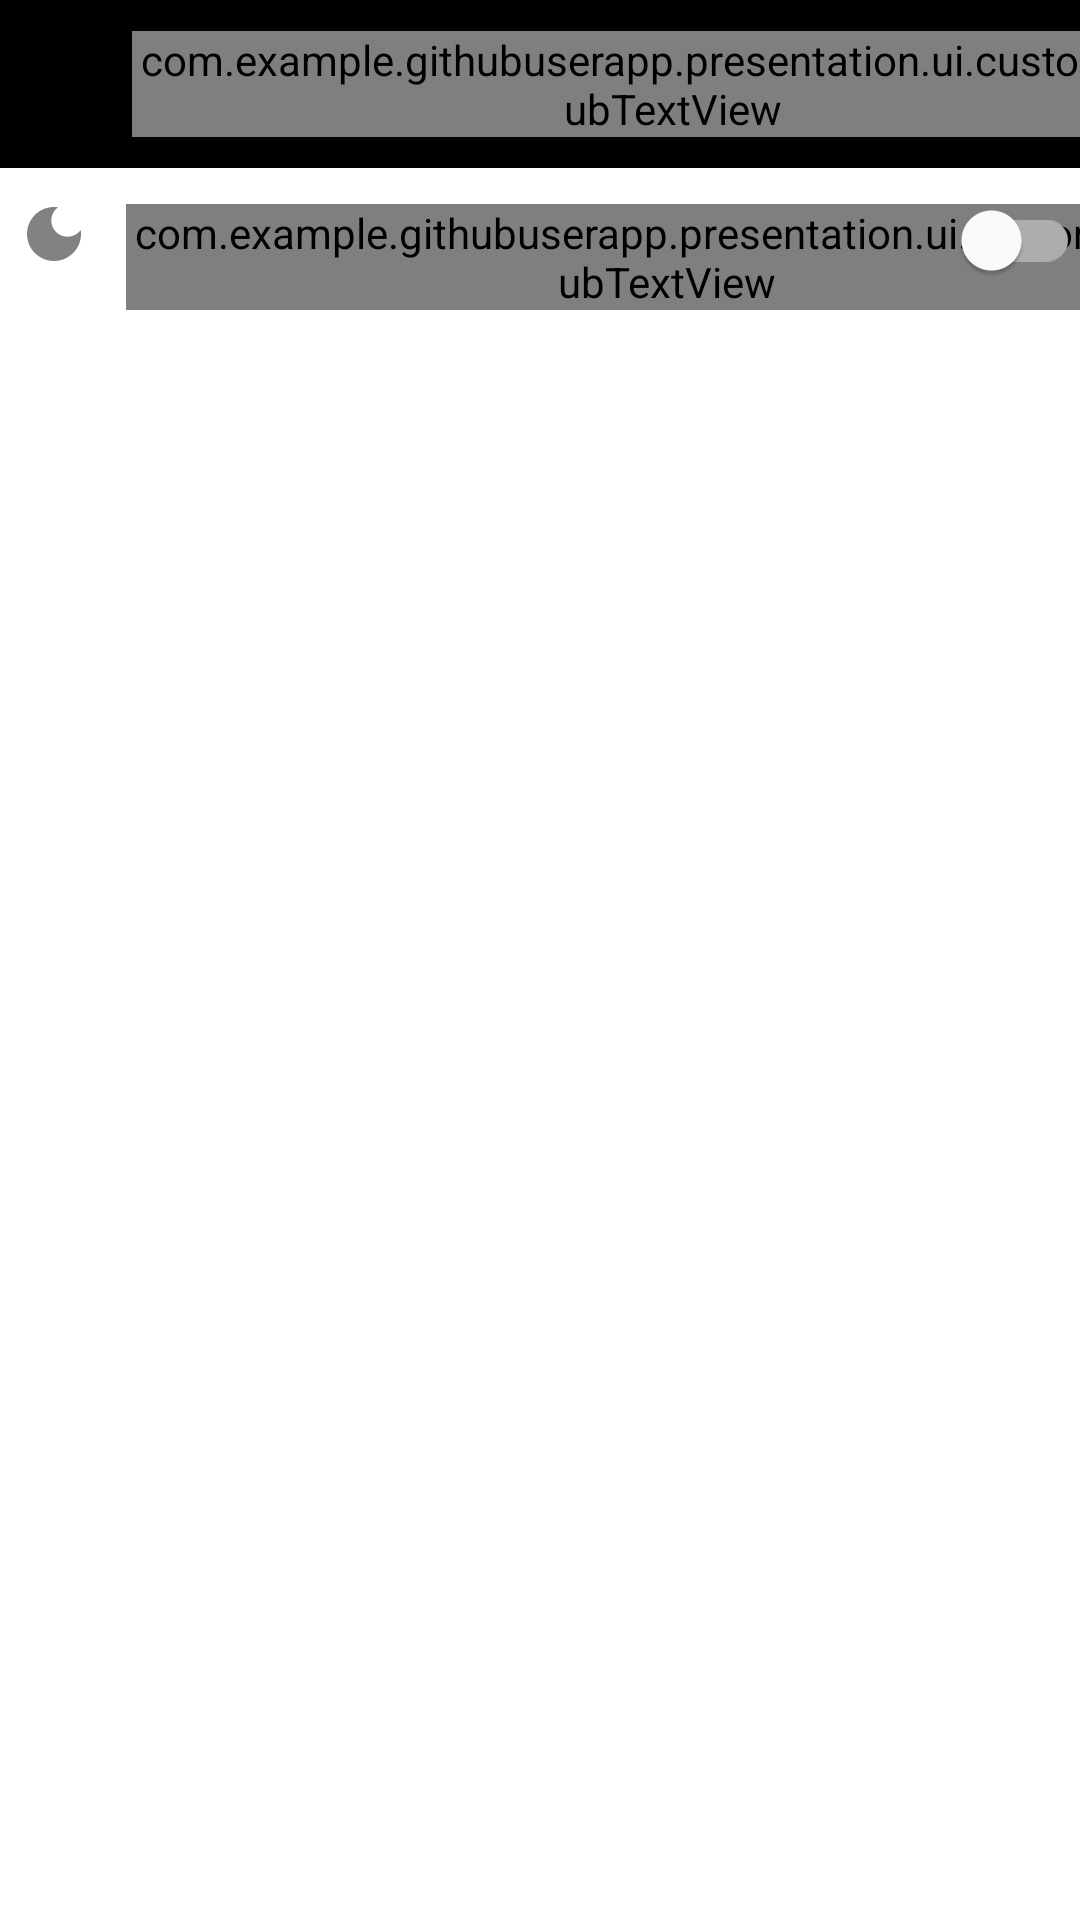

Where icons sit on this 1080x1920 app screen, as (x1, y1, x2, y2):
mode: (27, 207, 81, 261)
